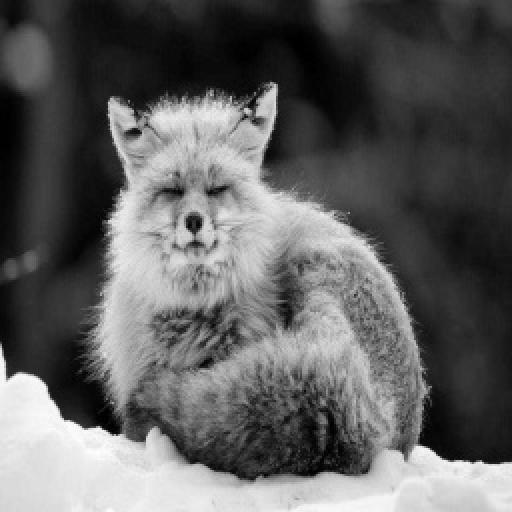zorro: (88, 86, 426, 478)
